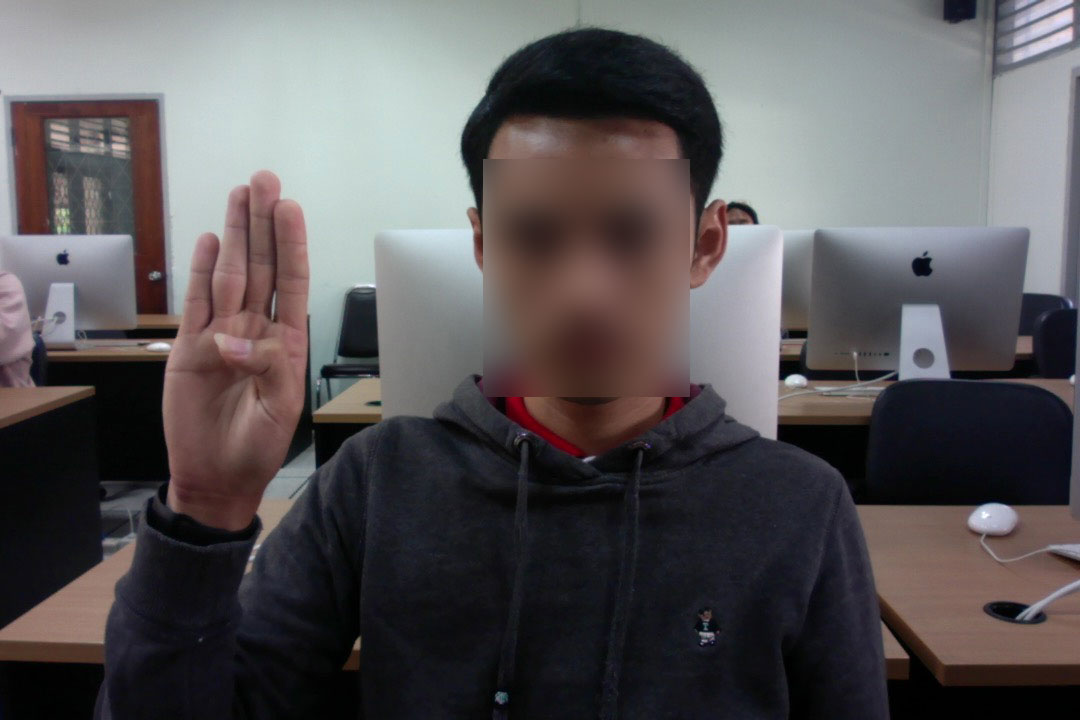bor: (141, 159, 323, 514)
